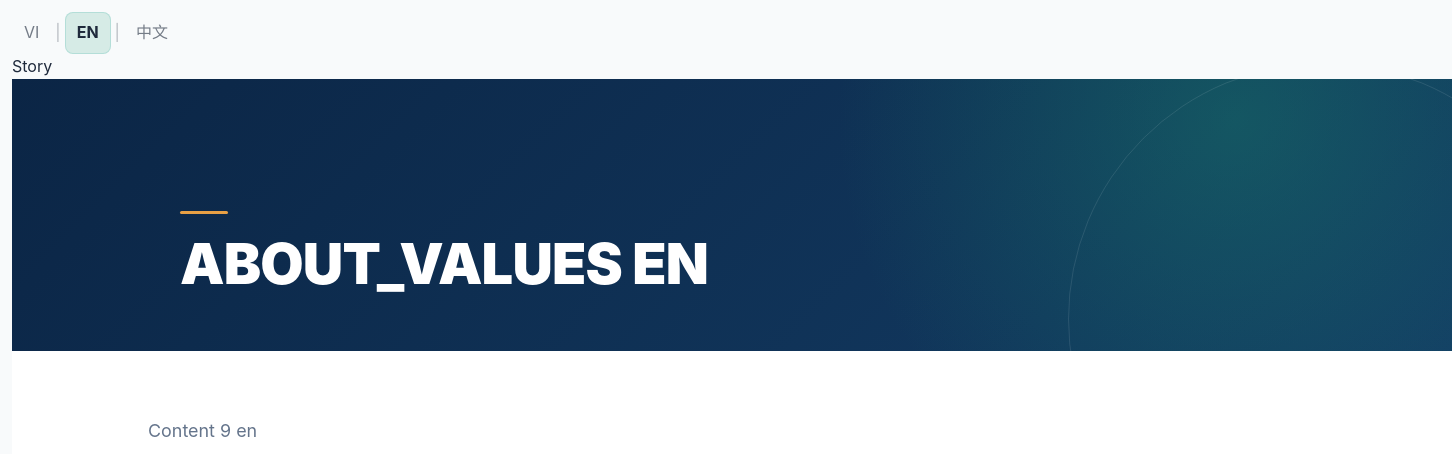
Test case: missing target locale keeps URL and language and reports status
expect the heading "ABOUT_VALUES en" is shown: met, box [180,230,708,298]
Click the button "中文" at (152, 33), box [124,12,180,54]
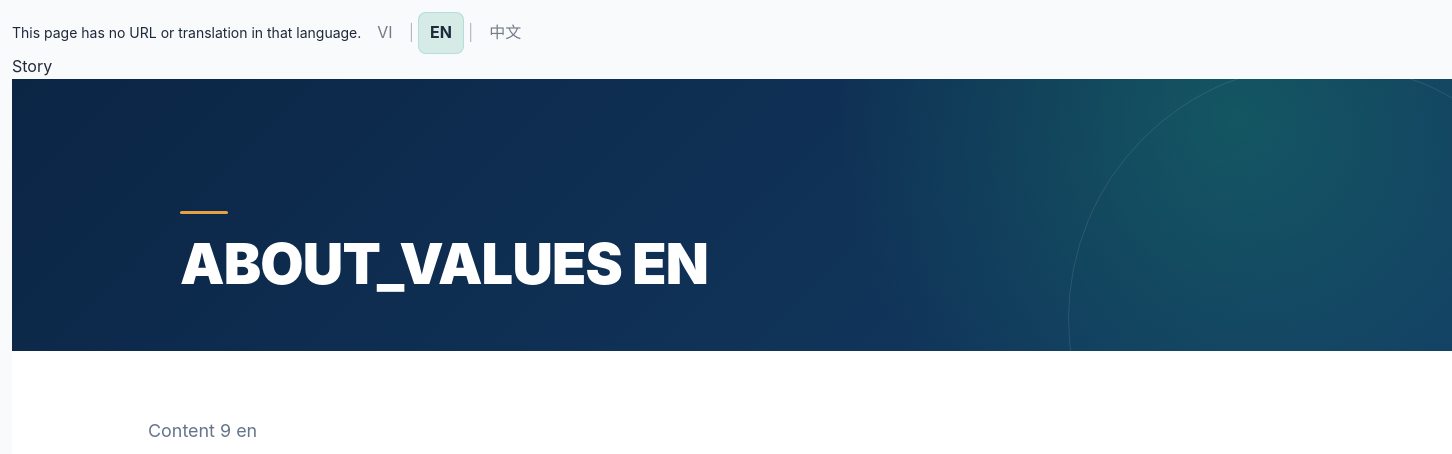
expect the message shows "no URL or translation": met, box [12,24,361,41]
